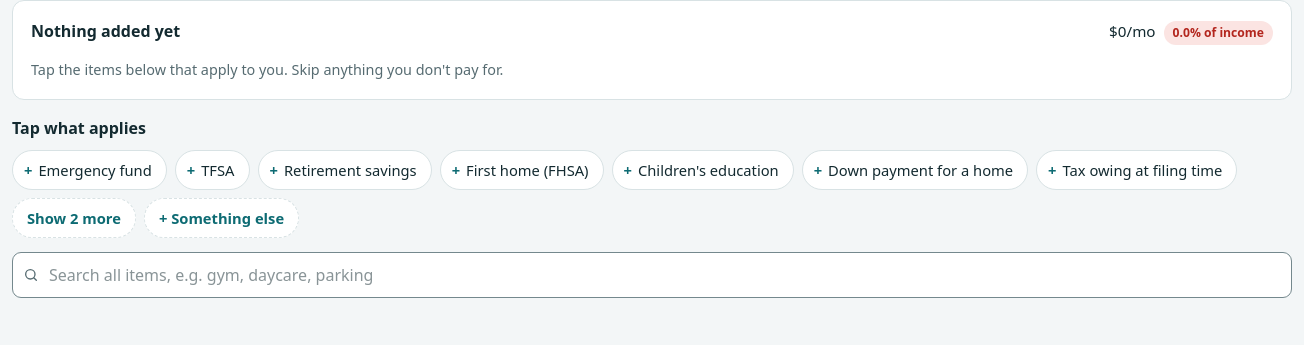
Test: BucketStep › savings badge › rates savings as a share of income
Expected: the text "0.0% of income" is shown, [1164, 21, 1273, 45]
Click the button "+ Emergency fund" at (89, 170), box [12, 150, 167, 190]
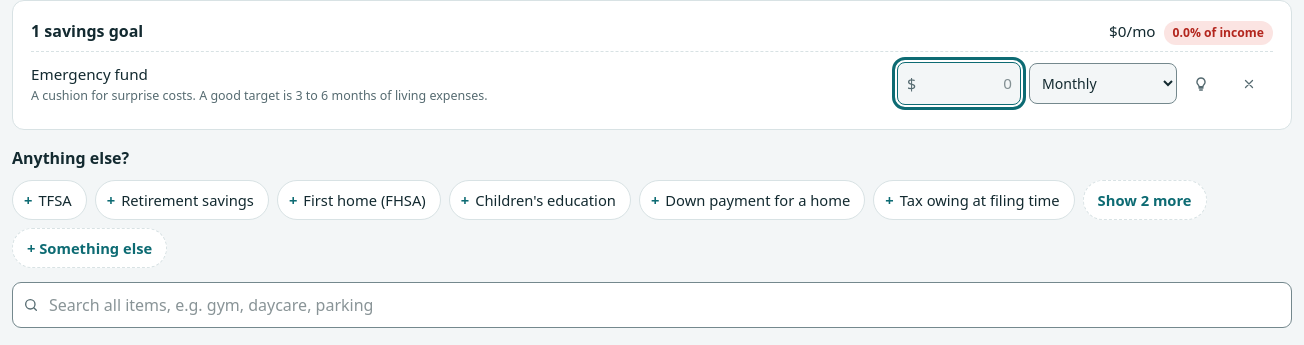
Type "200" into the field named "Emergency fund amount" at (959, 84), box [897, 62, 1021, 105]
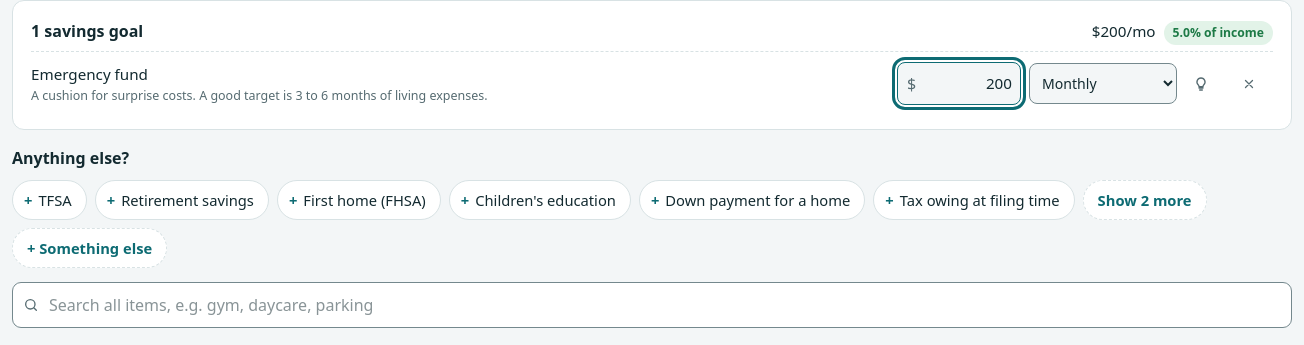
Expected: the text "5.0% of income" is shown, [1164, 21, 1273, 45]
